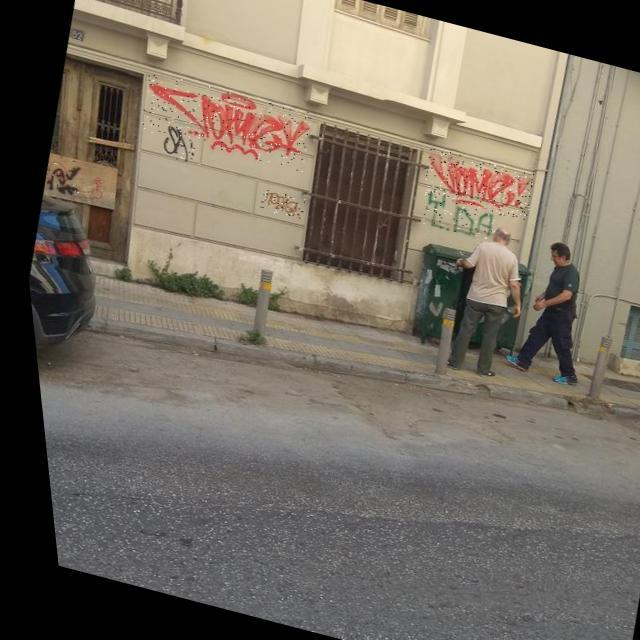-: (132, 70, 314, 172), (414, 147, 534, 222), (414, 192, 495, 242), (155, 123, 201, 164), (39, 154, 82, 197), (253, 188, 302, 220)
